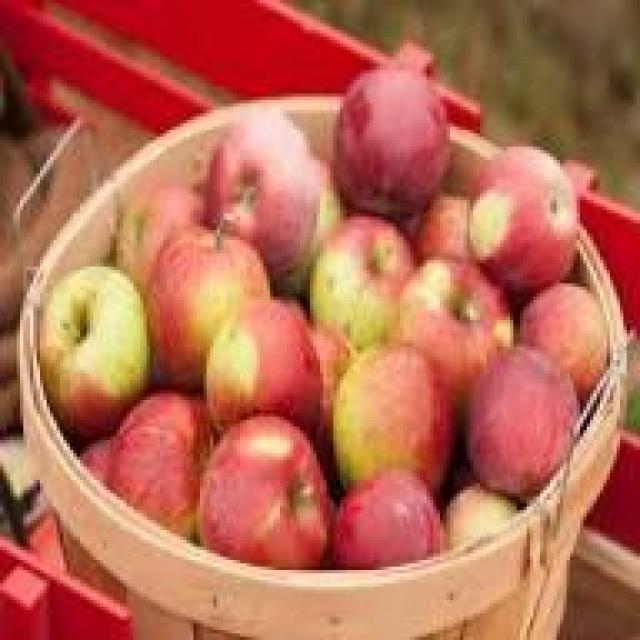apple: (327, 333, 450, 490), (194, 427, 324, 573), (144, 233, 274, 377), (100, 393, 217, 540), (34, 270, 144, 420), (330, 60, 443, 203), (464, 353, 584, 487), (207, 293, 313, 440), (213, 110, 317, 257), (470, 146, 583, 276), (397, 253, 510, 377), (310, 217, 410, 343), (114, 157, 204, 293), (327, 477, 440, 573), (513, 283, 610, 390)
